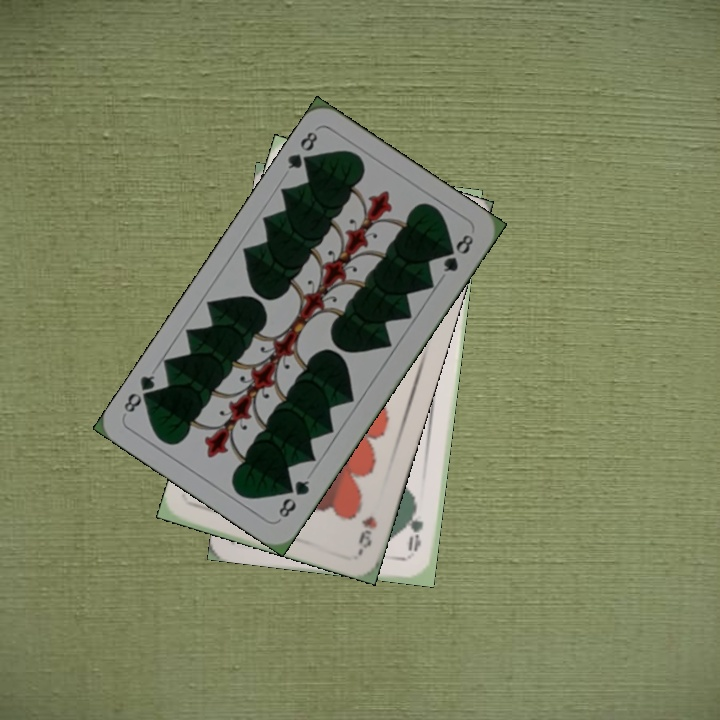G8: (274, 476, 313, 523), (283, 127, 320, 173)
GO: (404, 499, 426, 555)
H9: (354, 512, 380, 553)
